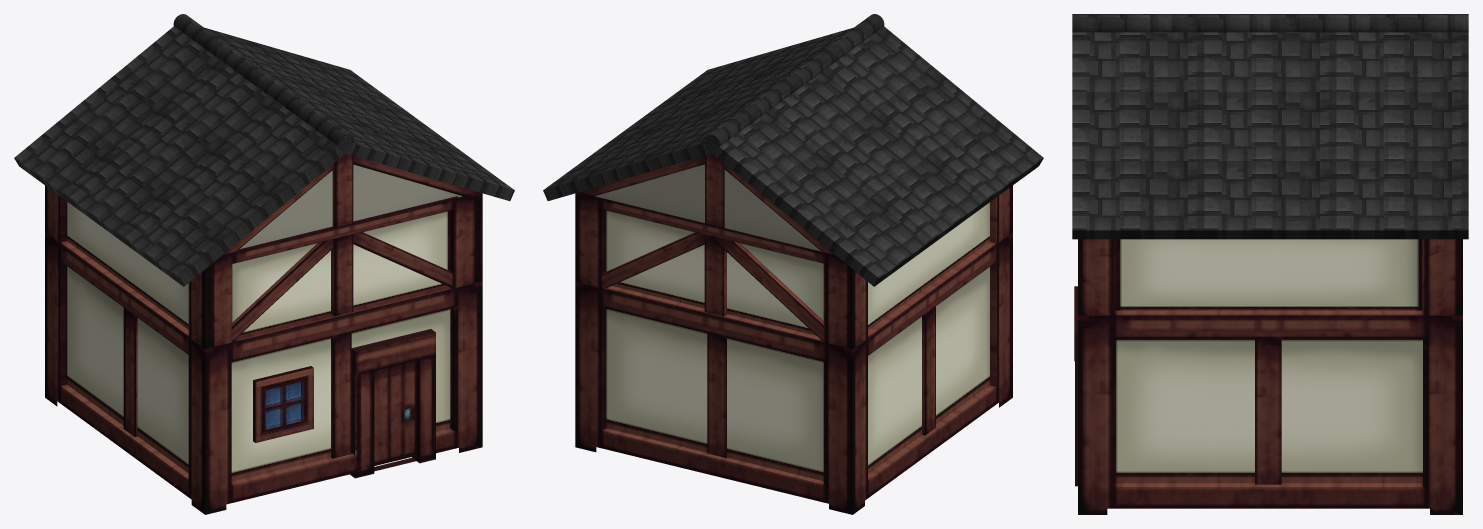
Rendered from house2-middle.glb.
3 renders of one model, left to right at view 1: azimuth 30°, elevation 25°; view 2: azimuth 150°, elevation 25°; view 3: azimuth 270°, elevation 25°, orthographic. The views are drawn at different scales.
Visible parts, largest first — view 1: Plane.005, Walls, Walls.001, door, Plane.002, Plane.004, Cylinder, Cube.002, Cube.006, Cube.005, Cube.008, Cube.007 (+3 smaller); view 2: Walls, Plane.005, Walls.001, Plane.001, Cylinder, Cube.003, Cube.013, Cube.012, Cube.005, Cube.011, Cube.001, Cube.014 (+1 smaller); view 3: Plane.005, Walls, Walls.001, Cylinder, Cube.004, door.
Boxes of the visible parts, <box> form: Plane.005: <box>14,26,514,286</box>; Walls: <box>45,232,482,514</box>; Walls.001: <box>45,185,482,348</box>; door: <box>350,329,435,478</box>; Plane.002: <box>239,164,462,249</box>; Plane.004: <box>253,366,313,442</box>; Cylinder: <box>173,14,353,151</box>; Cube.002: <box>331,331,351,458</box>; Cube.006: <box>231,239,333,340</box>; Cube.005: <box>123,307,137,436</box>; Cube.008: <box>331,234,353,316</box>; Cube.007: <box>353,232,452,287</box>; Walls: <box>575,232,1012,514</box>; Plane.005: <box>543,26,1043,286</box>; Walls.001: <box>575,185,1012,349</box>; Plane.001: <box>595,164,821,251</box>; Cylinder: <box>704,14,884,148</box>; Cube.003: <box>707,331,726,457</box>; Cube.013: <box>711,225,823,340</box>; Cube.012: <box>601,225,718,287</box>; Cube.005: <box>922,306,935,435</box>; Cube.011: <box>704,237,726,316</box>; Cube.001: <box>705,153,724,227</box>; Cube.014: <box>579,156,704,196</box>; Plane.005: <box>1072,32,1468,239</box>; Walls: <box>1078,315,1462,514</box>; Walls.001: <box>1078,239,1462,316</box>; Cylinder: <box>1072,14,1468,32</box>; Cube.004: <box>1255,337,1281,484</box>; door: <box>1074,286,1077,486</box>.
Bounding box in the file's own units: 4.24 × 4.2 × 3.6.
29 materials, 29 textured.
